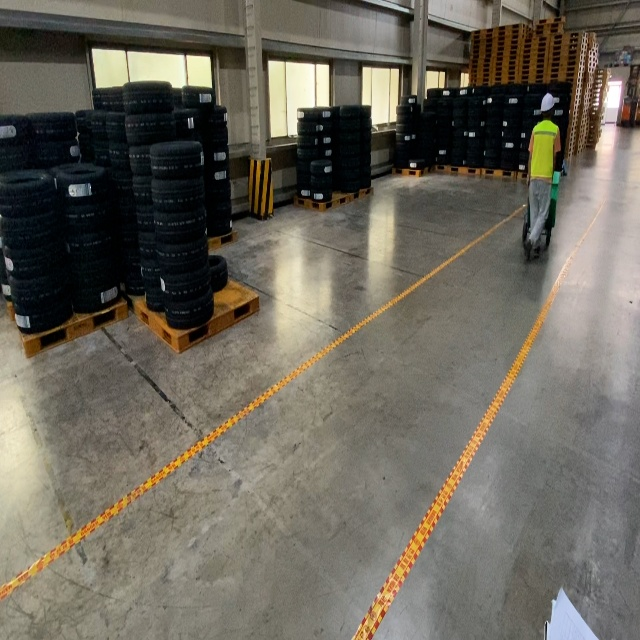Worker: (526, 92, 561, 262)
